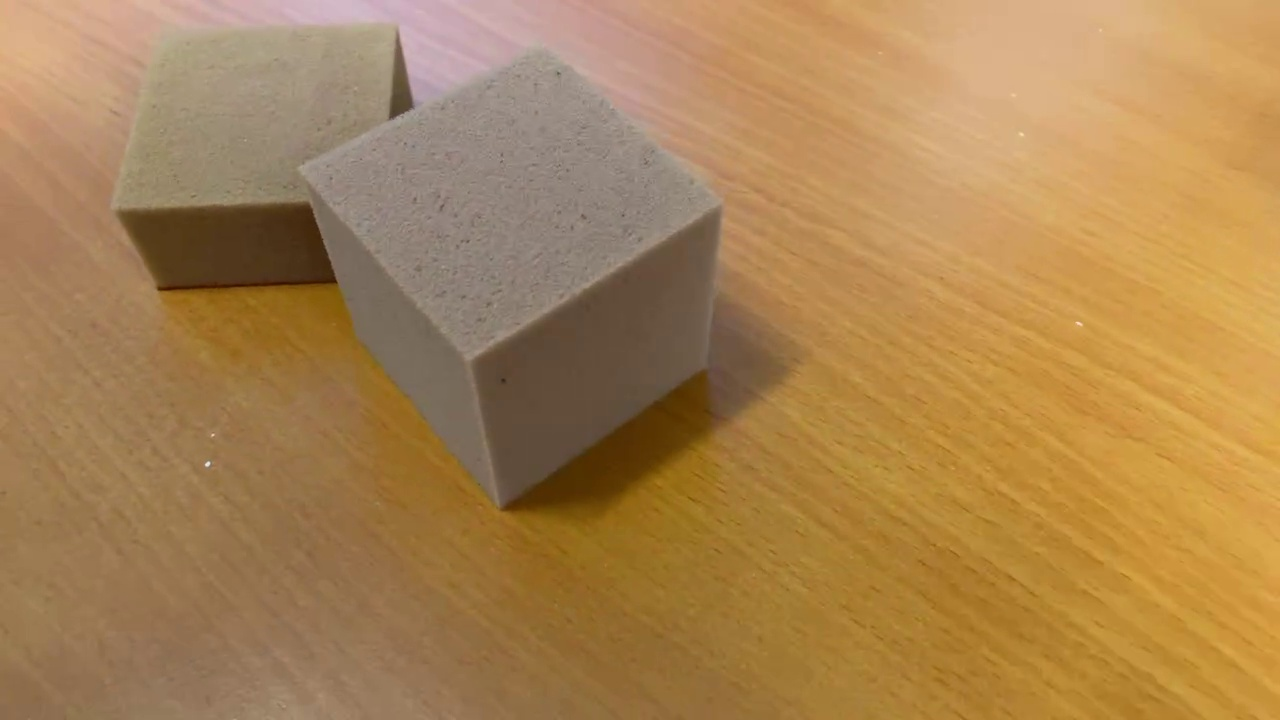Cube: (289, 35, 729, 517)
Cube_short: (116, 18, 417, 295)
